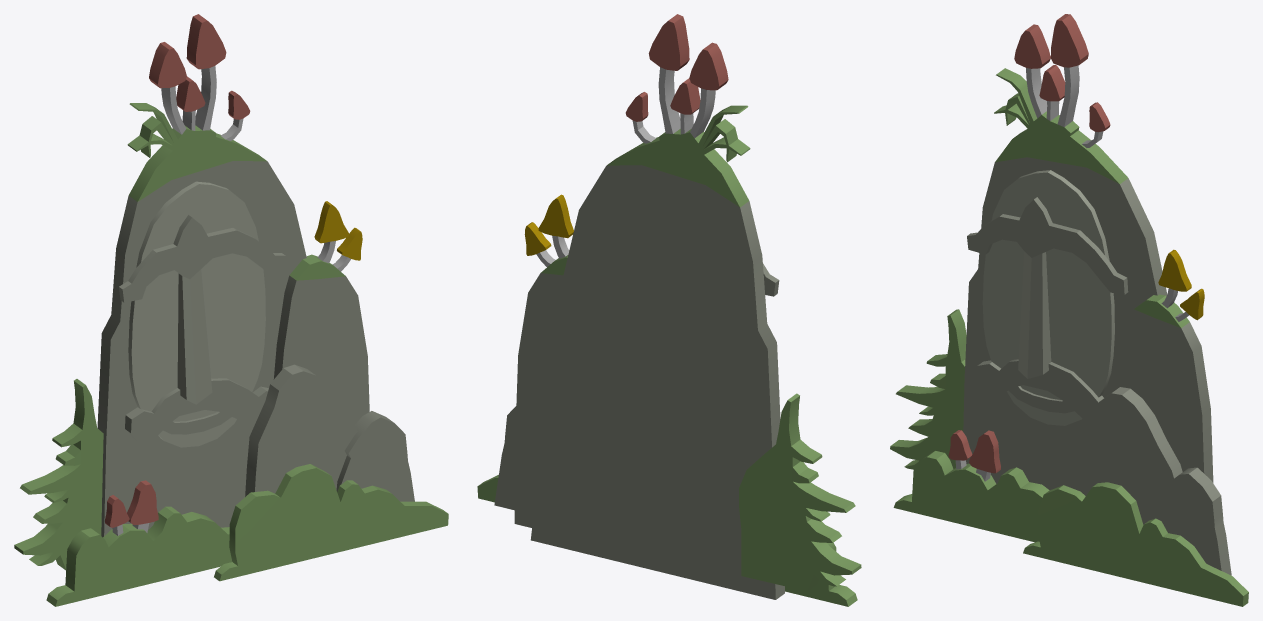
File: Rock_Face_2.fbx
The picture shows the model from 3 angles, left to right: view 1: azimuth 30°, elevation 25°; view 2: azimuth 150°, elevation 25°; view 3: azimuth 330°, elevation 25°; orthographic projection. The views are drawn at different scales.
Visible parts, largest first — view 1: pCube42, pDisc1, pCube37, pCube36, pCube40, pCube39, pCube44, pCube41, pCube47, pCube38, pCube45, pCube48 (+5 smaller); view 2: pCube42, pCube41, pCube47, pCube40, pCube38, pCube48, pCube36, pCube52, pCube57; view 3: pCube42, pDisc1, pCube37, pCube40, pCube39, pCube44, pCube36, pCube47, pCube41, pCube38, pCube45, pCube48 (+5 smaller).
Boxes of the visible parts, x1=… form: pCube42: x1=97, y1=133, x2=306, y2=537; pDisc1: x1=128, y1=181, x2=265, y2=447; pCube37: x1=214, y1=464, x2=448, y2=581; pCube36: x1=46, y1=506, x2=232, y2=606; pCube40: x1=273, y1=254, x2=369, y2=424; pCube39: x1=245, y1=364, x2=357, y2=496; pCube44: x1=119, y1=215, x2=286, y2=404; pCube41: x1=14, y1=379, x2=103, y2=570; pCube47: x1=127, y1=14, x2=226, y2=157; pCube38: x1=336, y1=411, x2=414, y2=501; pCube45: x1=125, y1=378, x2=268, y2=442; pCube48: x1=314, y1=201, x2=348, y2=263; pCube42: x1=530, y1=137, x2=784, y2=599; pCube41: x1=739, y1=393, x2=861, y2=591; pCube47: x1=648, y1=14, x2=750, y2=162; pCube40: x1=514, y1=255, x2=568, y2=527; pCube38: x1=494, y1=406, x2=516, y2=510; pCube48: x1=538, y1=194, x2=573, y2=258; pCube36: x1=785, y1=542, x2=857, y2=606; pCube52: x1=625, y1=92, x2=655, y2=143; pCube57: x1=524, y1=222, x2=555, y2=266; pCube42: x1=963, y1=129, x2=1167, y2=490; pDisc1: x1=982, y1=170, x2=1114, y2=425; pCube37: x1=1023, y1=482, x2=1248, y2=606; pCube40: x1=1120, y1=294, x2=1213, y2=482; pCube39: x1=1075, y1=387, x2=1182, y2=524; pCube44: x1=967, y1=197, x2=1128, y2=378; pCube36: x1=893, y1=451, x2=1049, y2=542; pCube47: x1=994, y1=14, x2=1088, y2=136; pCube41: x1=890, y1=309, x2=966, y2=469; pCube38: x1=1151, y1=467, x2=1231, y2=575; pCube45: x1=976, y1=359, x2=1103, y2=424; pCube48: x1=1158, y1=249, x2=1191, y2=308.
Bounding box in the file's own units: 1.71 × 2.21 × 0.2846.
